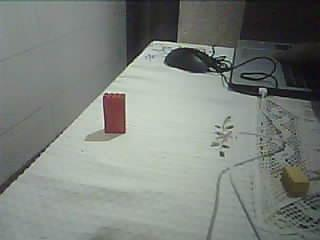lego: (102, 92, 127, 134), (280, 163, 311, 196)
